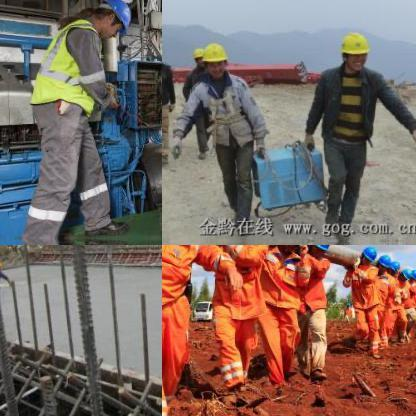Helmet: (335, 23, 371, 73), (94, 0, 133, 39), (197, 40, 227, 75), (357, 245, 384, 274), (371, 254, 391, 272), (308, 245, 333, 257), (188, 46, 204, 64), (282, 245, 309, 253), (390, 257, 400, 273), (400, 265, 410, 279), (408, 265, 415, 279)
